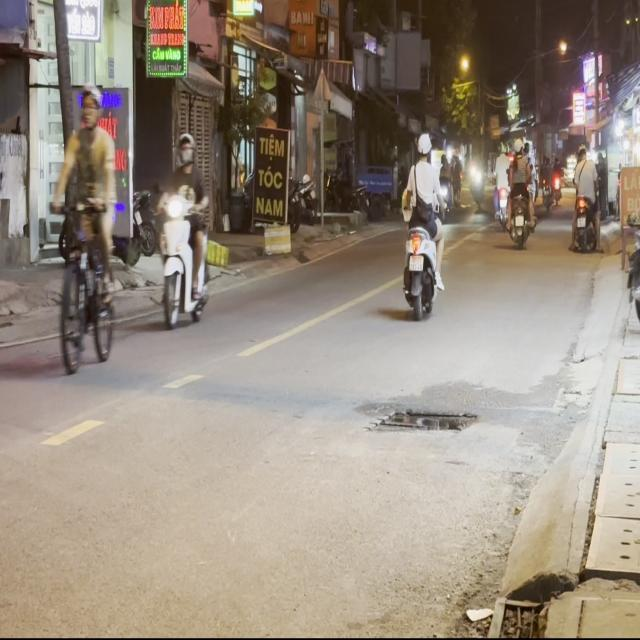helmet: (177, 130, 194, 166), (416, 131, 431, 159)
licenseplate: (154, 129, 212, 329), (398, 130, 445, 317)
nohelmet: (409, 254, 423, 270)
